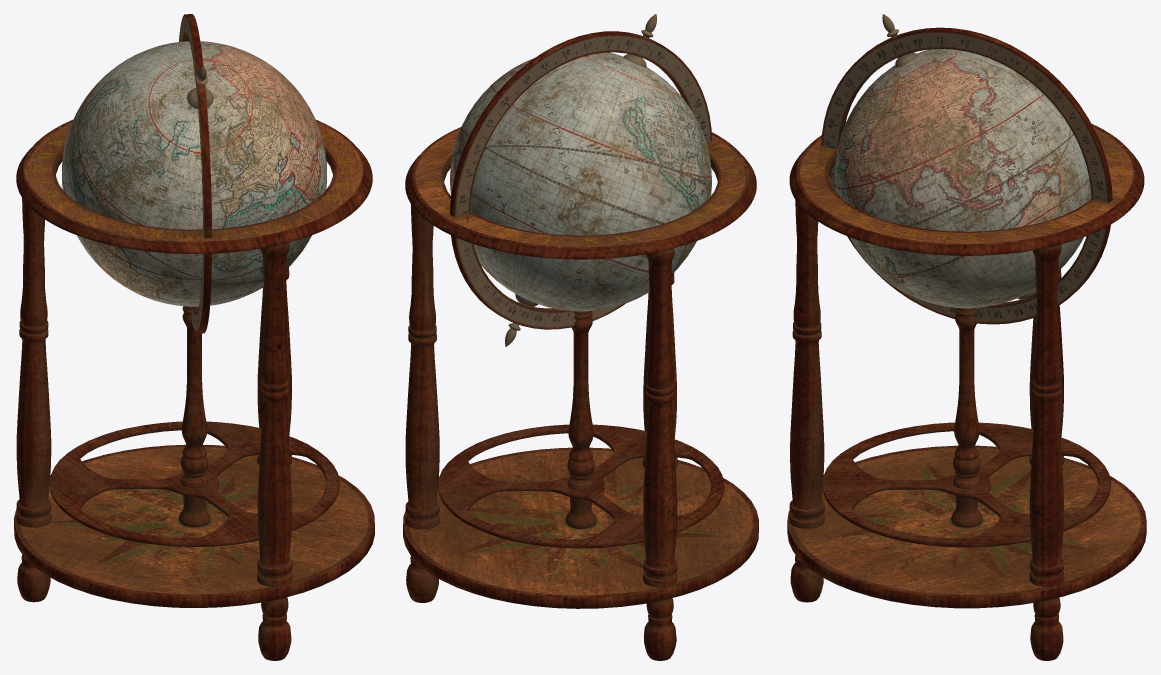
The model's file is mdl_hub_floorglobe.gltf.
The picture shows the model from 3 angles, left to right: view 1: azimuth 30°, elevation 25°; view 2: azimuth 150°, elevation 25°; view 3: azimuth 270°, elevation 25°; orthographic projection.
Parts seen in each view (by area): view 1: Cylinder.014; view 2: Cylinder.014; view 3: Cylinder.014.
Part boxes in pixels (left/top/right/bottom): Cylinder.014: left=14, top=14, right=374, bottom=660; Cylinder.014: left=403, top=14, right=758, bottom=660; Cylinder.014: left=787, top=14, right=1146, bottom=660.
Size of the model in its own units: 79.2 by 138 by 79.36.
Materials: 1 (1 with a texture image).
